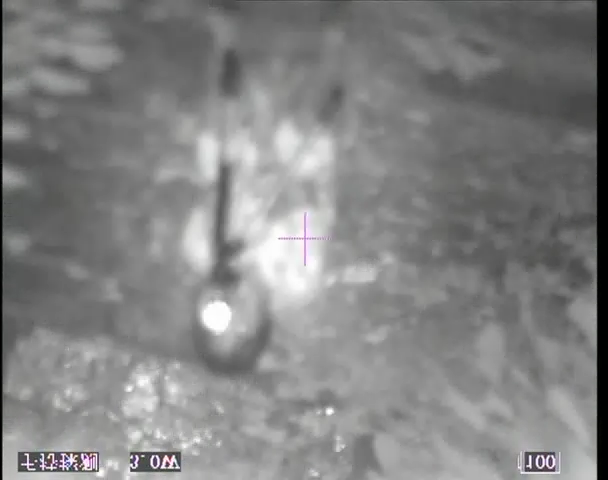my: (201, 299, 232, 331)
